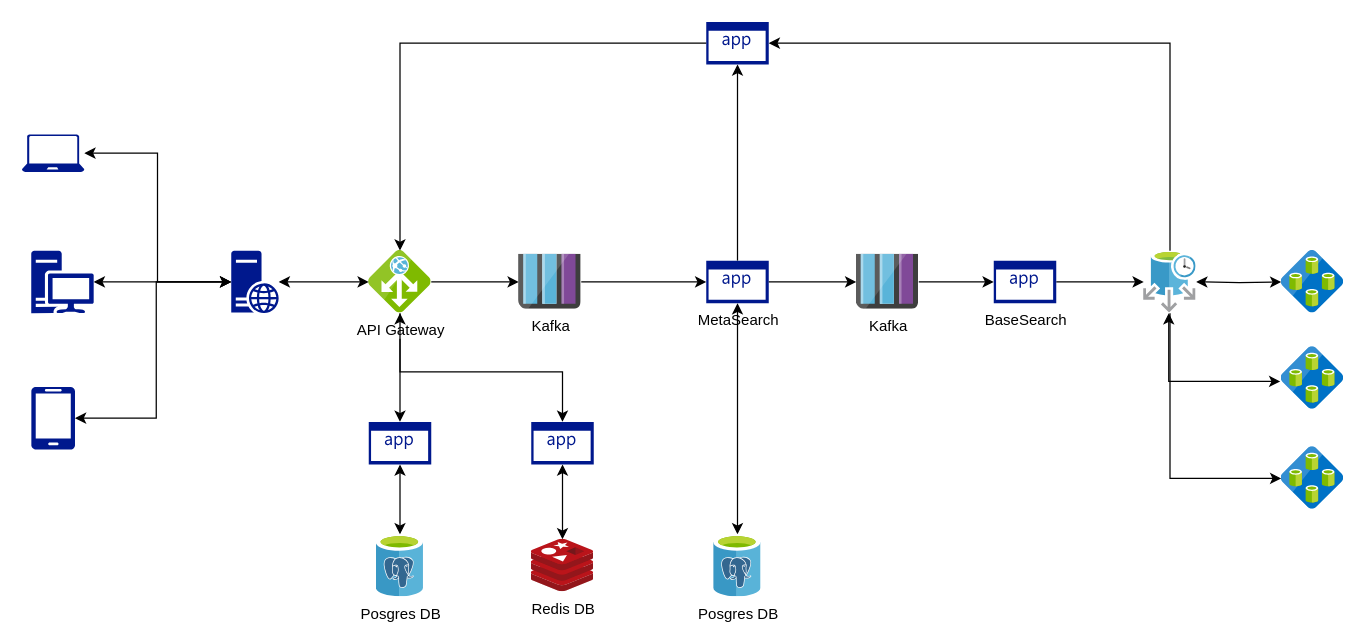
The diagram is 1365 pixels wide and 644 high, and some of its shapes have lost their labels. The shapes that lost their labels are listed below. From the top down, each one's box as (x1, y1, x2, y2) in pixels, then its label:
(706, 21, 768, 64): MatrixNet
(231, 250, 278, 312): NGinx
(368, 421, 431, 464): Auth
(531, 421, 593, 464): User
